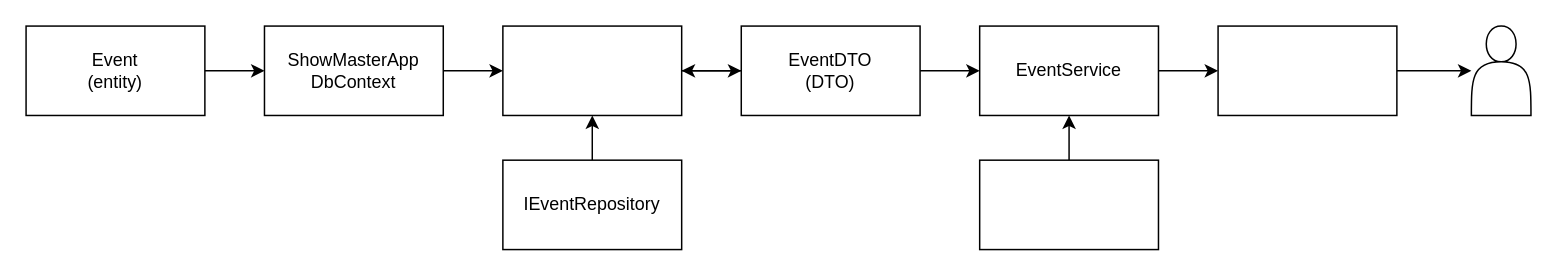
Image size: 1557x276. Some labels were removed from this diagram. Each missing label, with the centre of its shape:
"EventController" belongs at pixel 1307 70.
"EventRepository" belongs at pixel 591 70.
"IEventService" belongs at pixel 1068 204.
